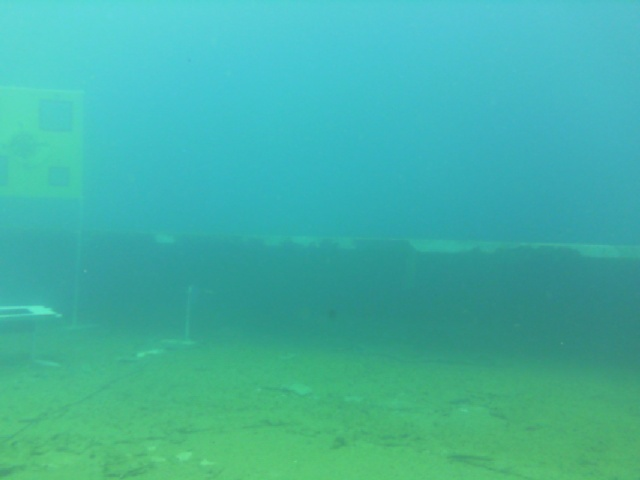torpedo_hole: (39, 100, 73, 133), (48, 166, 70, 187)
torpedo_target: (1, 86, 85, 204)
